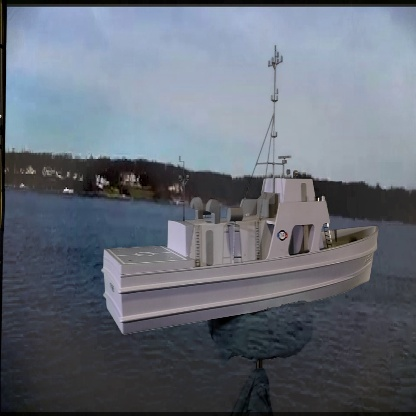YP689: (99, 43, 379, 338)
